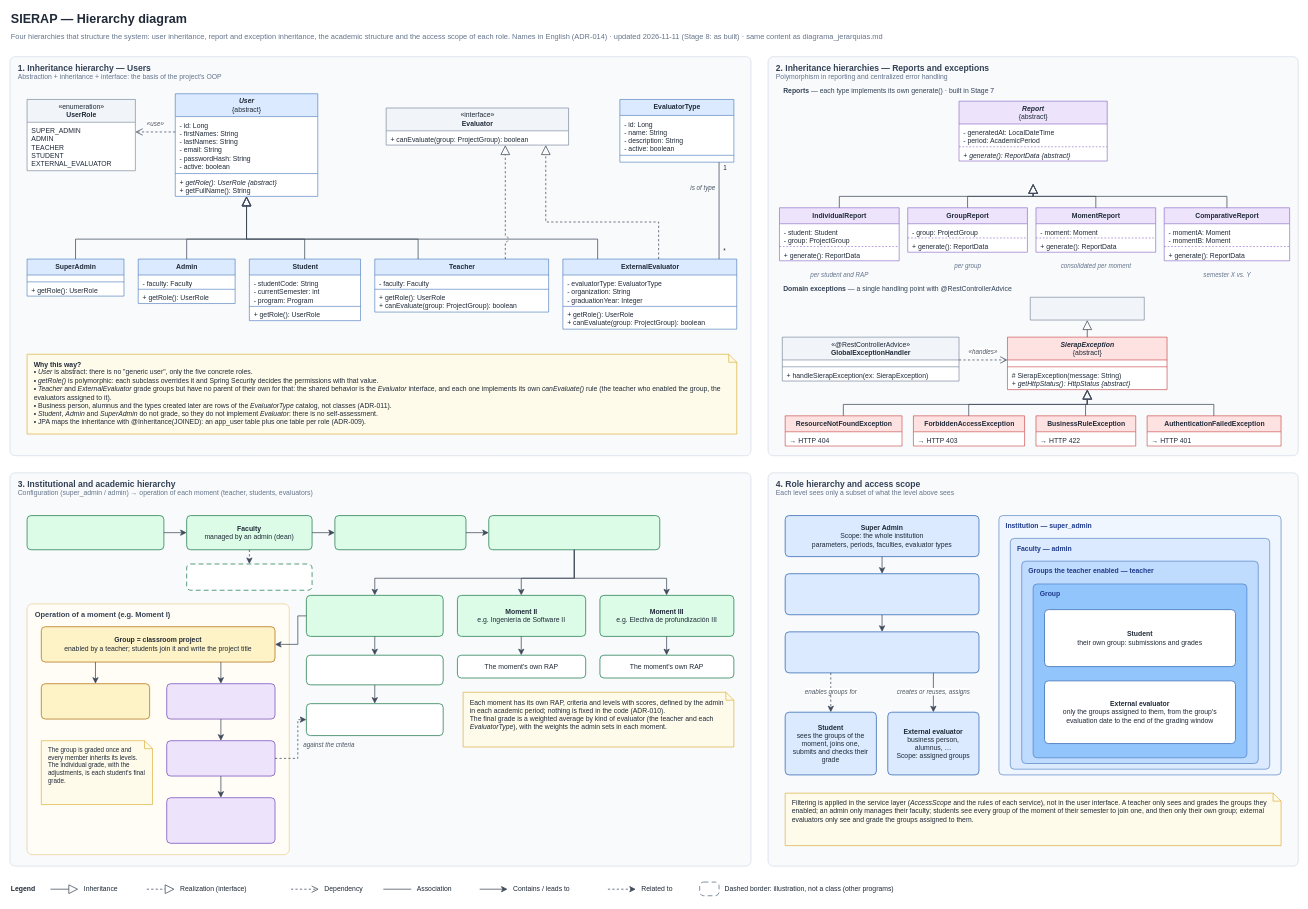
Image size: 1308x909. Some labels were removed from this diagram. Each missing label, with the centre of its shape:
Academic period e.g. 2026-2 · the configuration is defined per period: the point at 574,532
Admin (dean) Scope: their faculty configures and launches the moments: the point at 881,594
Criteria of each RAP → levels with their score: the point at 374,719
Evaluations teacher · external evaluators: the point at 220,701
Grade per criterion level picked and its score: the point at 220,758
Individual adjustment another level for one student in a criterion (ADR-018): the point at 220,820
Moment I e.g. Programación II requirement level set by the admin: the point at 374,616
Other programs with their own configuration: the point at 249,576
Program e.g. Ingeniería de Sistemas: the point at 400,532
Submissions v1, v2 … vn (history) zip + optional presentation: the point at 95,701
Teacher Scope: the groups they enabled dates and evaluators of their groups: the point at 881,652
The moment's own RAP created, edited or deleted by the admin: the point at 374,670
Universidad Popular del Cesar institution · configured by the super_admin: the point at 95,532
«java.lang» RuntimeException: the point at 1087,308
